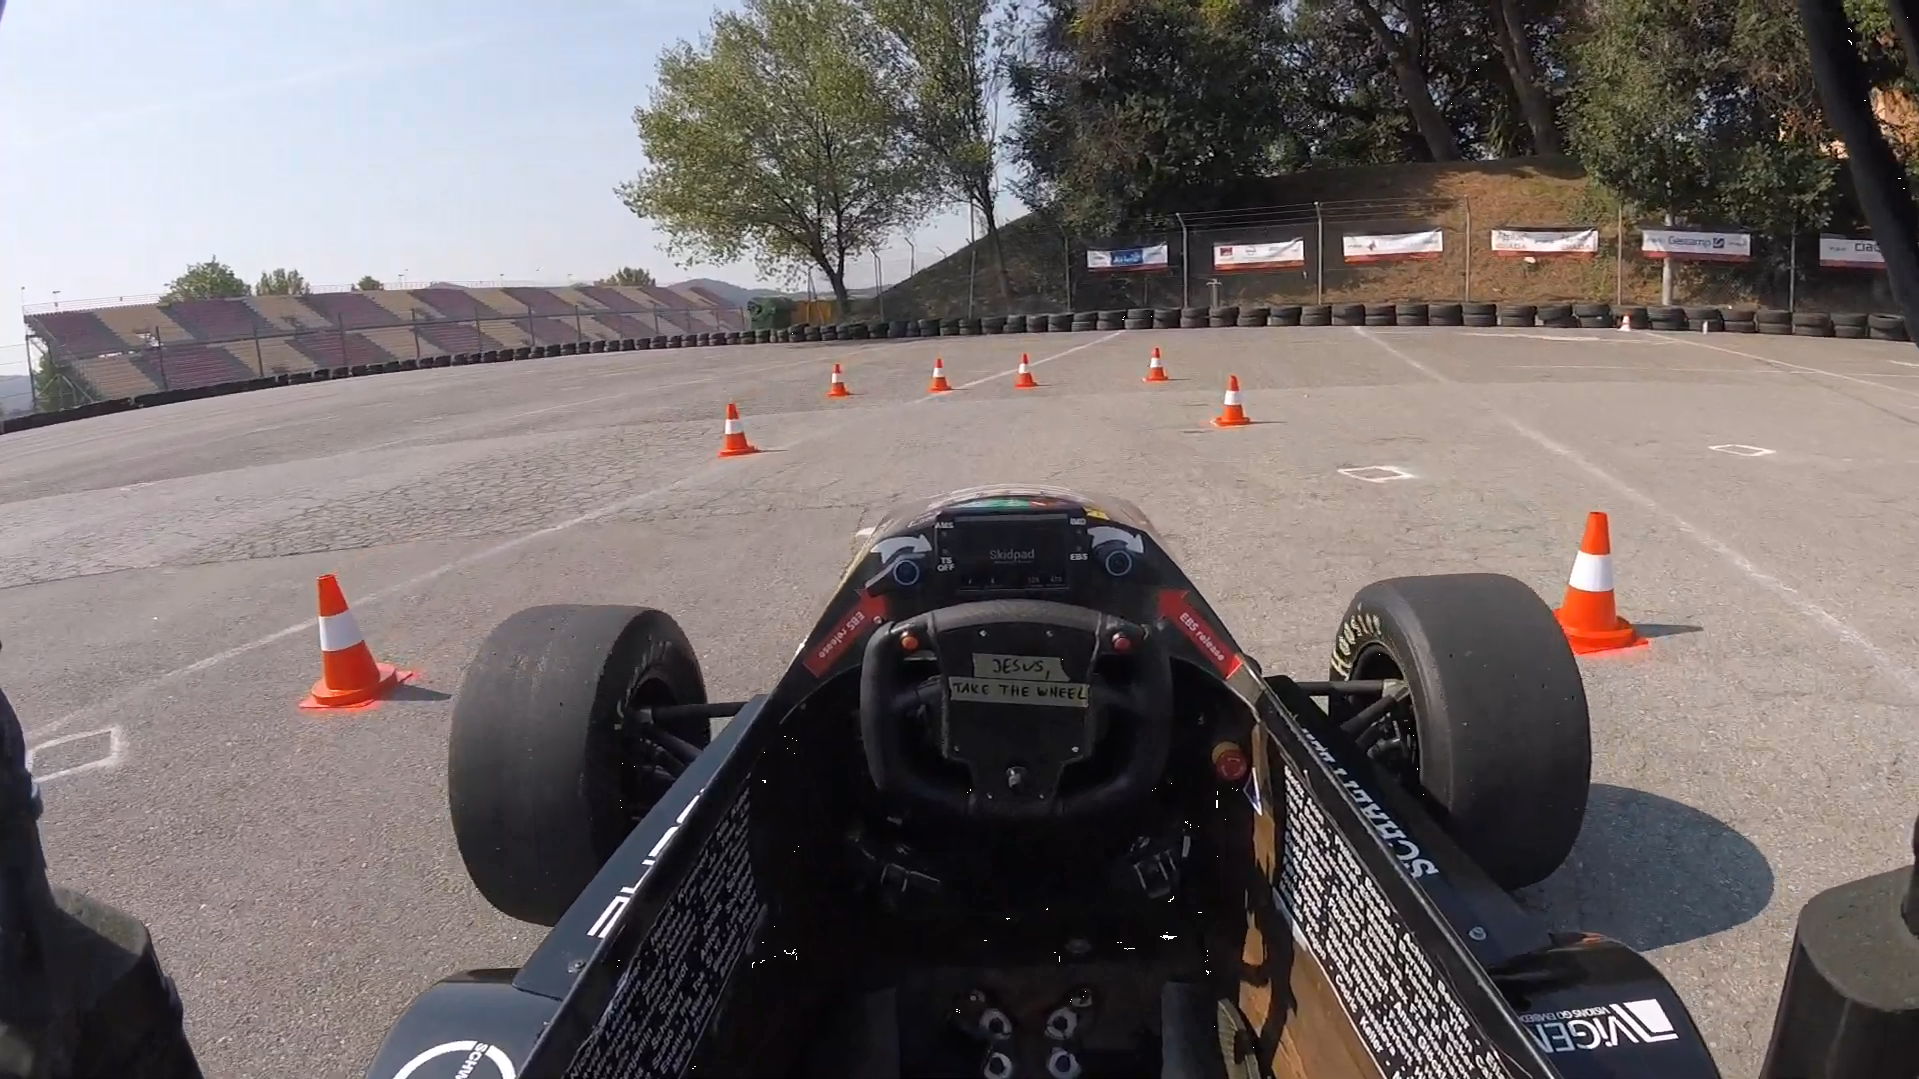cone-orange: (299, 572, 418, 709), (1541, 511, 1647, 653), (718, 403, 760, 457), (1217, 375, 1252, 426), (1143, 346, 1170, 382), (826, 364, 854, 397), (1015, 353, 1039, 389), (929, 358, 953, 393)
